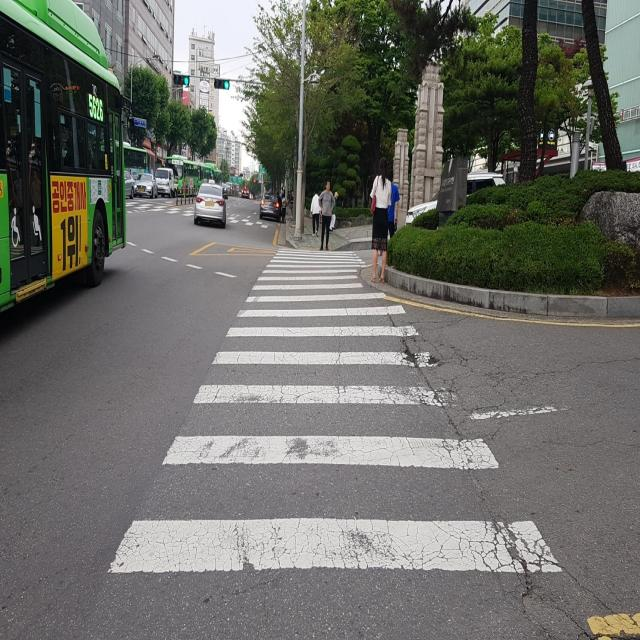횡단보도: (104, 241, 566, 582), (111, 199, 271, 231)
